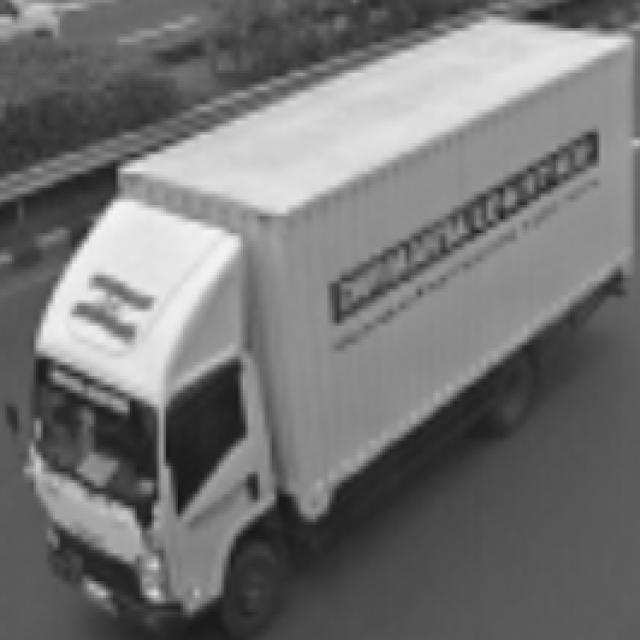truck: (1, 186, 302, 640)
